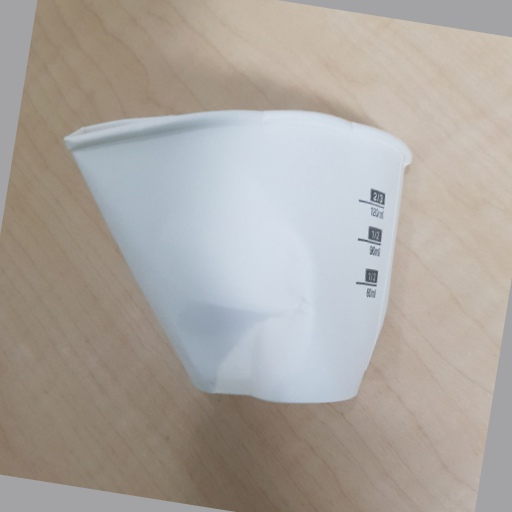Paper_1: (61, 116, 413, 404)
